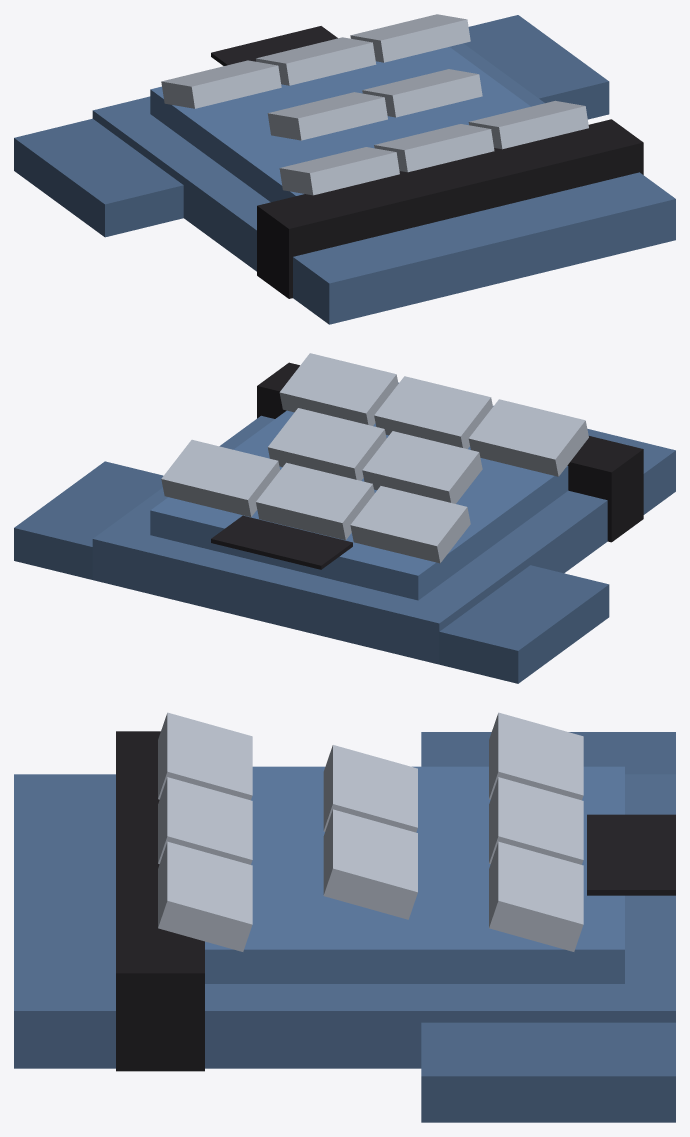
The model's file is scale_mail.glb.
The picture shows the model from 3 angles, top to bottom: view 1: azimuth 30°, elevation 25°; view 2: azimuth 150°, elevation 25°; view 3: azimuth 270°, elevation 25°; orthographic projection. The views are drawn at different scales.
Parts seen in each view (by area): view 1: scale_mail; view 2: scale_mail; view 3: scale_mail.
Boxes of the visible parts, bbox=[...] form: scale_mail: bbox=[14, 14, 675, 324]; scale_mail: bbox=[14, 353, 675, 683]; scale_mail: bbox=[14, 712, 675, 1122].
Bounding box in the file's own units: 0.8 × 0.1557 × 0.65.
